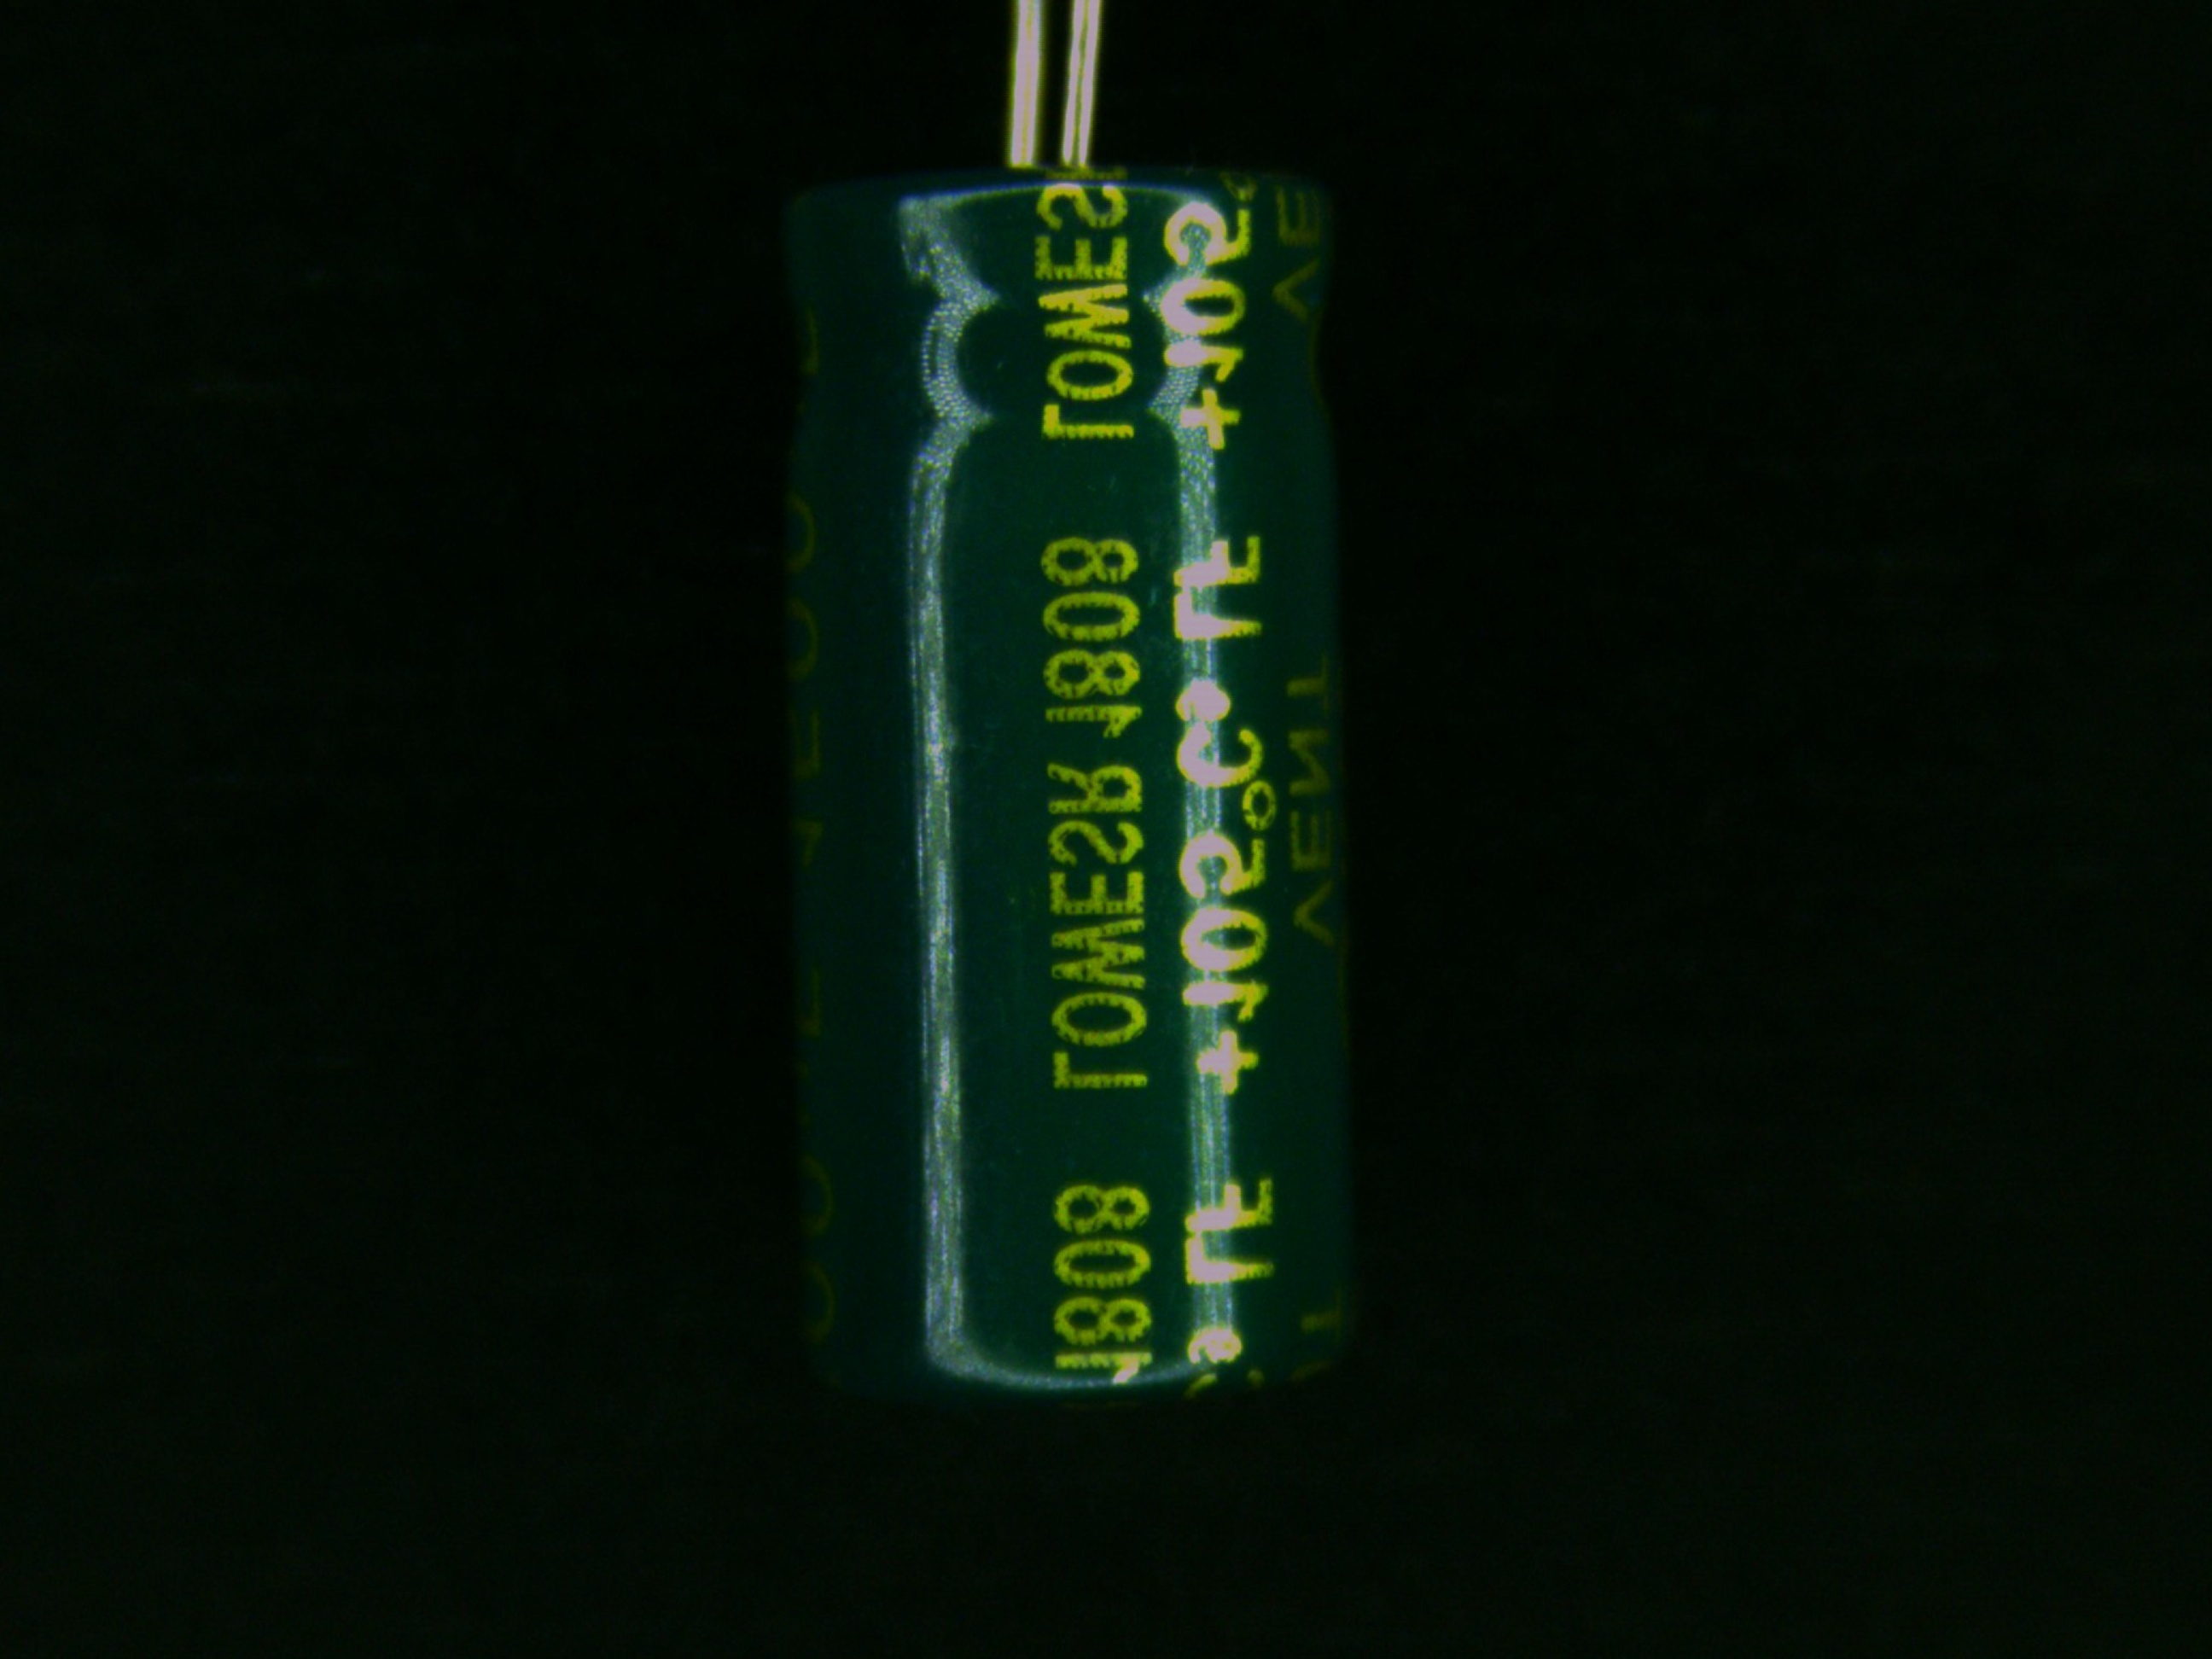c1: (768, 105, 1362, 1396)
